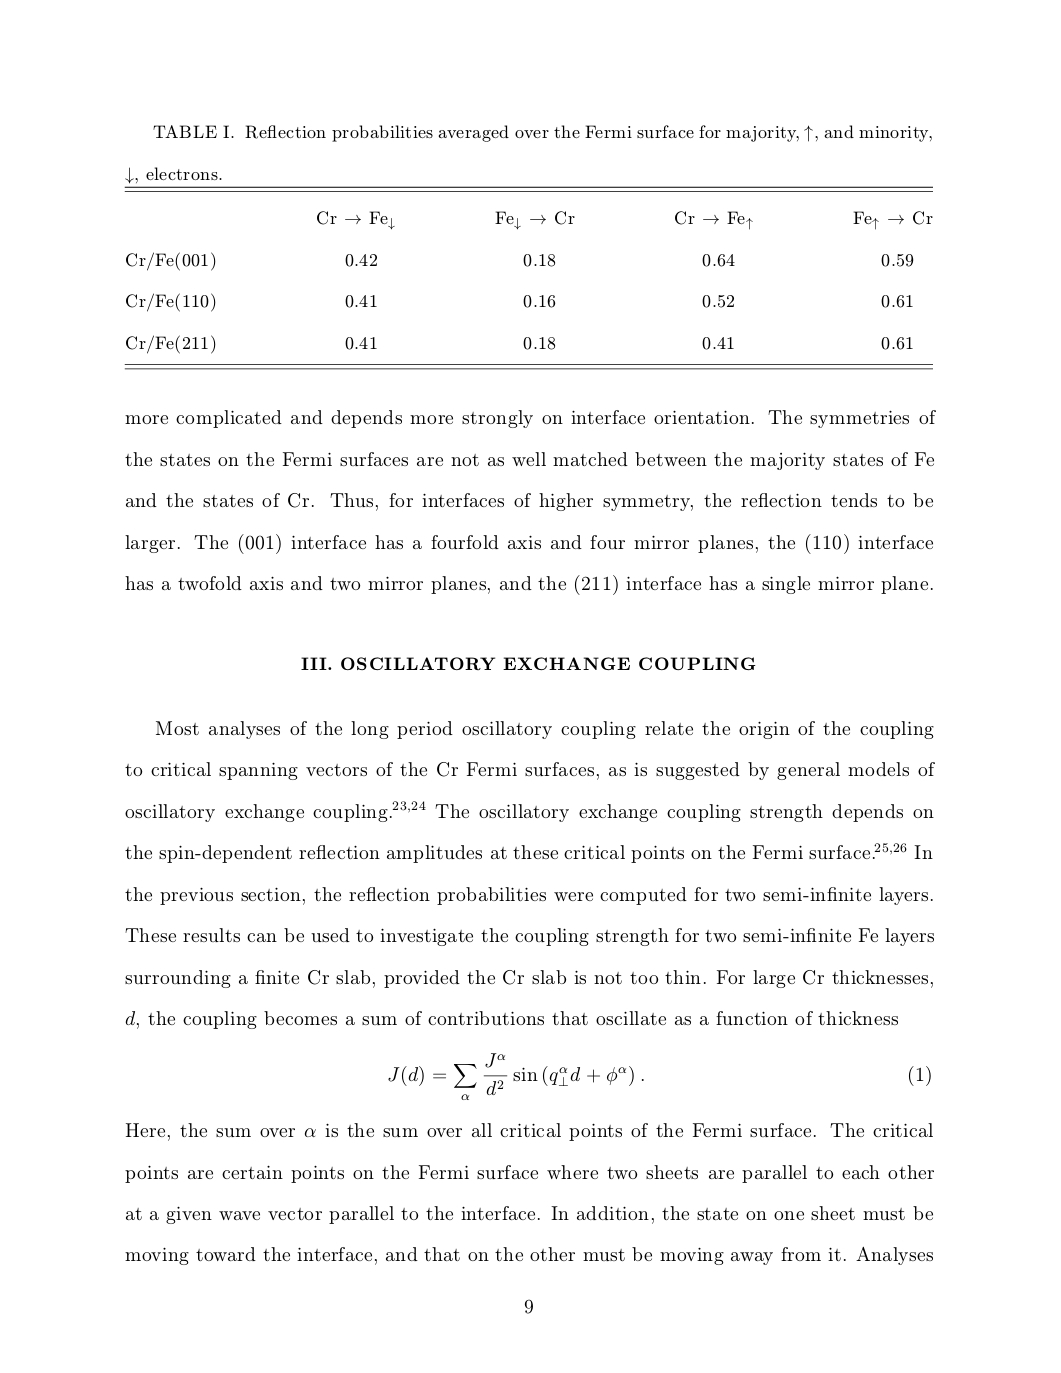Table: (124, 167, 932, 369)
formula: (388, 1052, 929, 1101)
